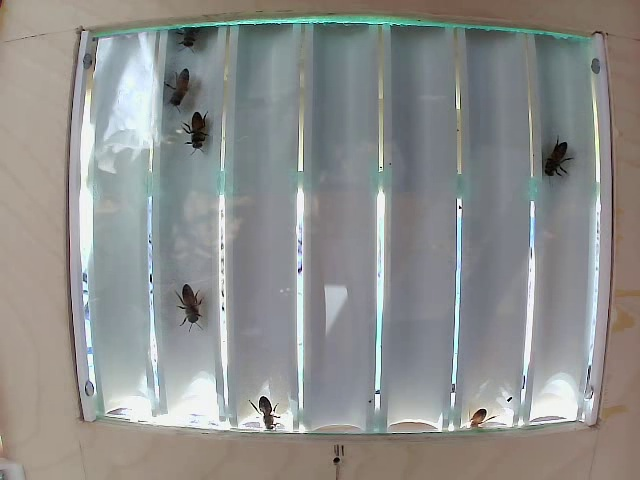bee: (166, 264, 211, 327), (545, 127, 574, 188), (167, 64, 200, 112), (182, 116, 217, 152)
